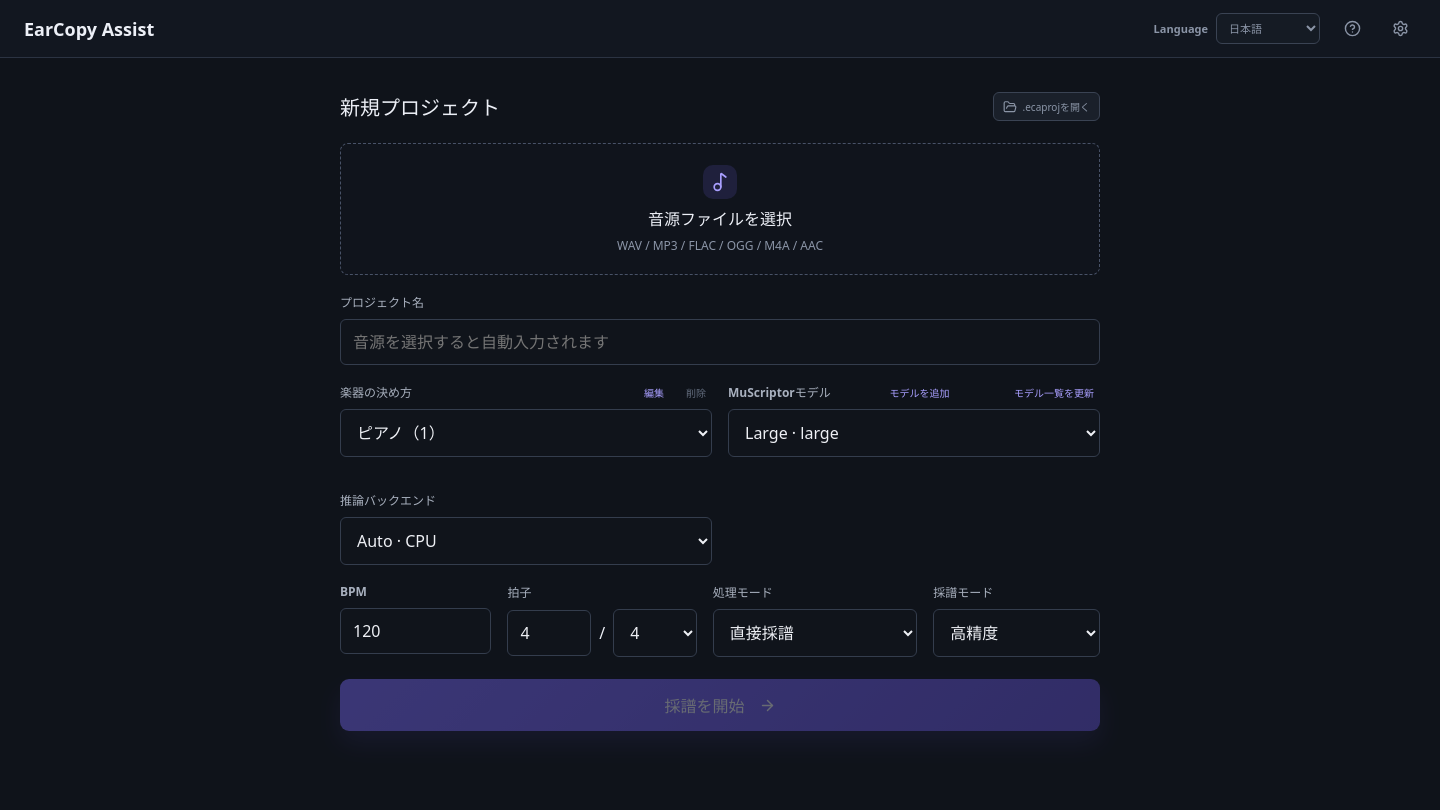
NewProjectScreen stem separation › offers automatic instrument estimation alongside fixed presets
Select "自動推定" in the dropdown labelled "楽器の決め方" at [526, 433], box [340,409,712,457]
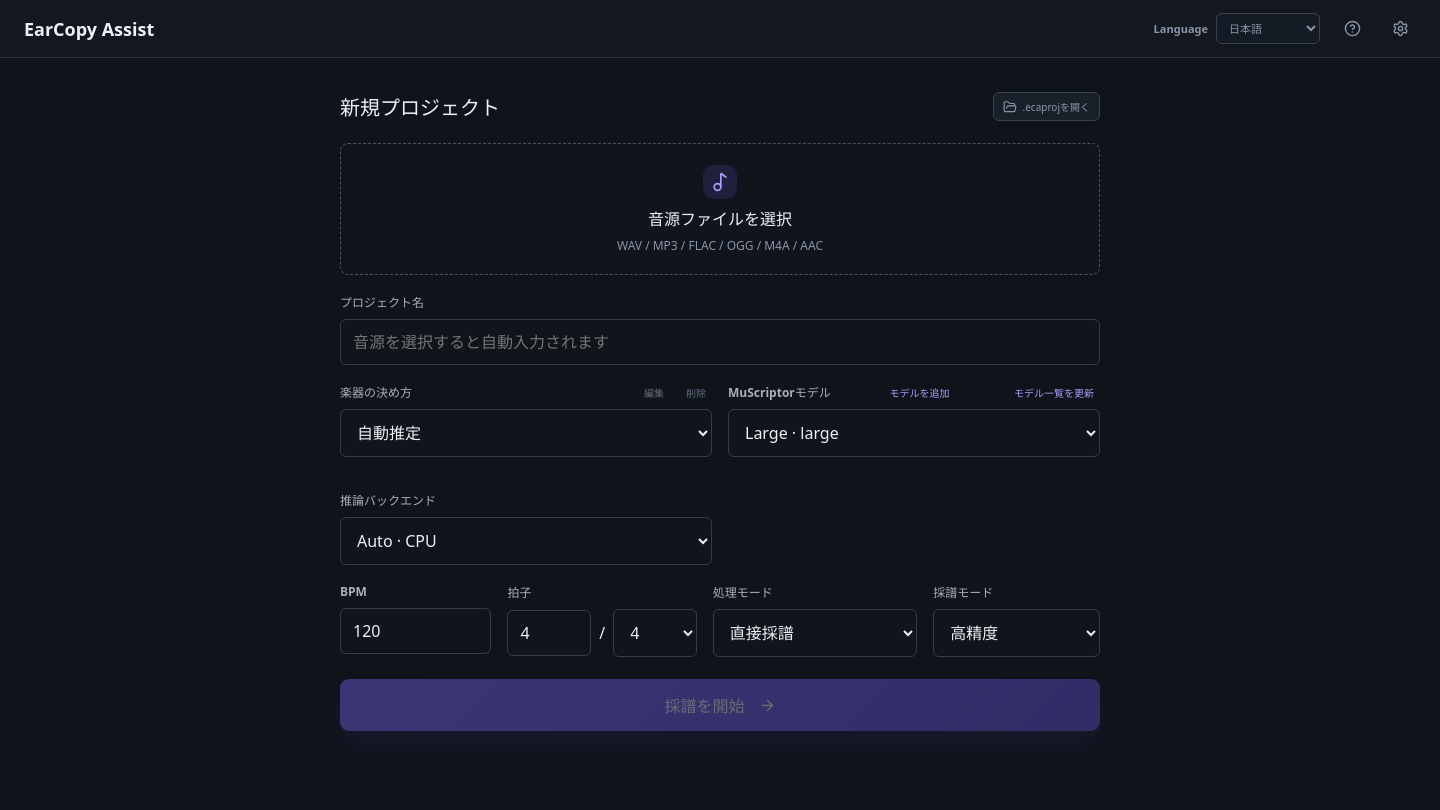
Now the button "編集" is disabled, box [638,384,670,400]
